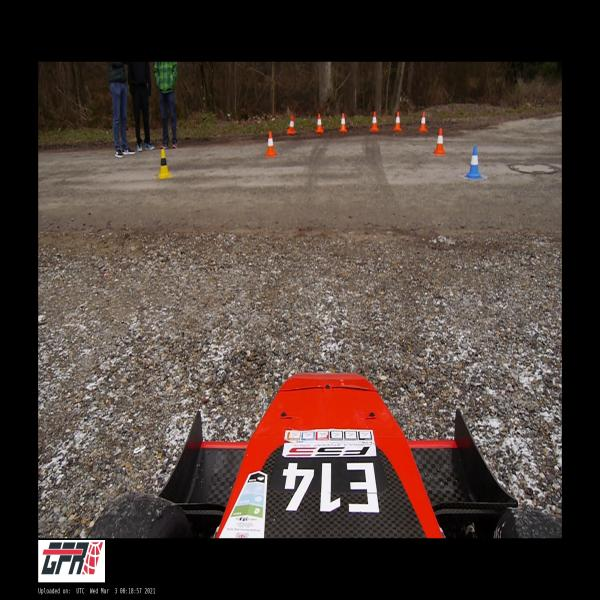blue_cone: (464, 146, 483, 179)
orange_cone: (434, 128, 445, 154), (266, 130, 276, 157), (393, 112, 402, 130), (419, 112, 427, 131), (287, 115, 295, 133), (370, 112, 378, 130), (316, 113, 323, 133), (340, 113, 347, 131)
yellow_cone: (157, 149, 172, 178)
